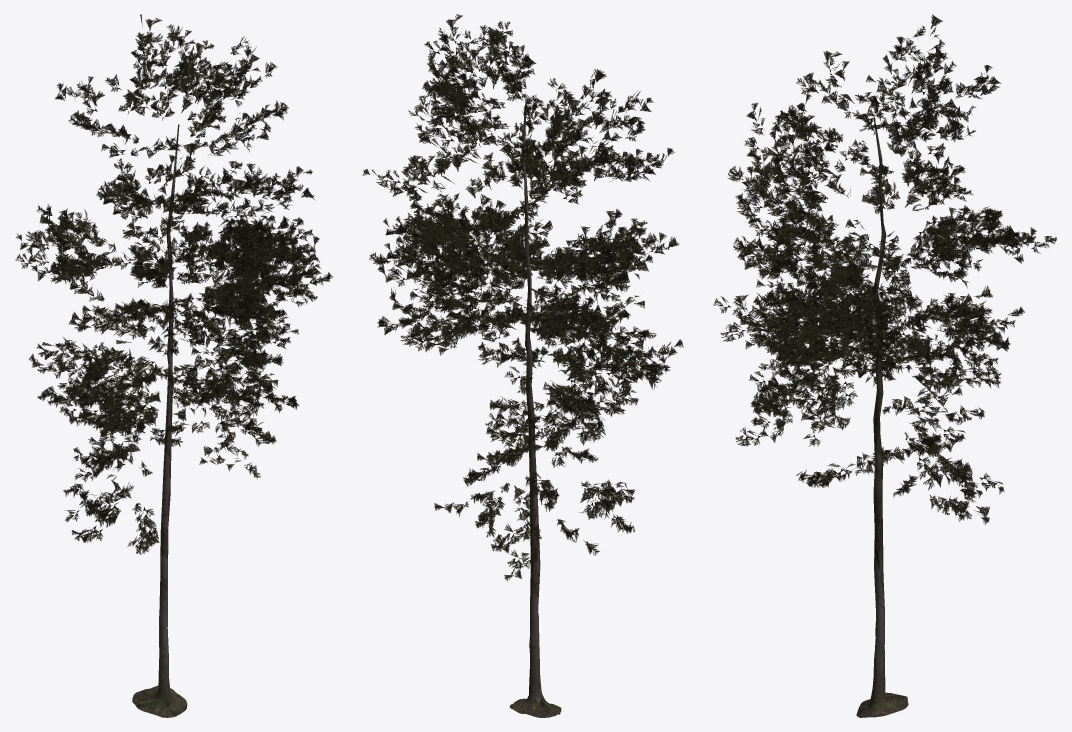
The model's file is pine_tree_01_c_far.glb.
The picture shows the model from 3 angles, left to right: view 1: azimuth 30°, elevation 25°; view 2: azimuth 150°, elevation 25°; view 3: azimuth 270°, elevation 25°; orthographic projection. The views are drawn at different scales.
Visible parts, largest first — view 1: pine_tree_01_c_far; view 2: pine_tree_01_c_far; view 3: pine_tree_01_c_far.
Part boxes in pixels (x1=…): pine_tree_01_c_far: x1=15, y1=14, x2=332, y2=717; pine_tree_01_c_far: x1=362, y1=14, x2=683, y2=717; pine_tree_01_c_far: x1=713, y1=14, x2=1056, y2=717.
Size of the model in its own units: 7.55 by 17.56 by 7.84.
Materials: 2 (2 with a texture image).
